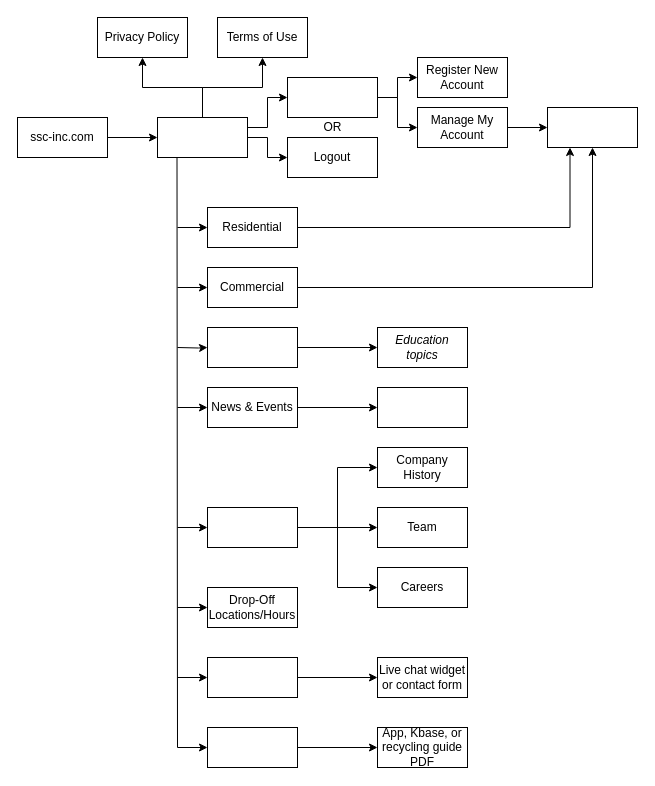
Some shapes in this 655 by 786 pixel diagram are drawn without their labels. The shapes that lost their labels are listed below. From the top down, each one's centre as x and y in pixels, then its label:
[332,97]: Login
[202,137]: Index
[592,127]: Specific services
[252,347]: Education
[422,407]: Specific news items and/or events
[252,527]: About SSC
[252,677]: Contact Us
[252,747]: How Do I Dispose of...?
